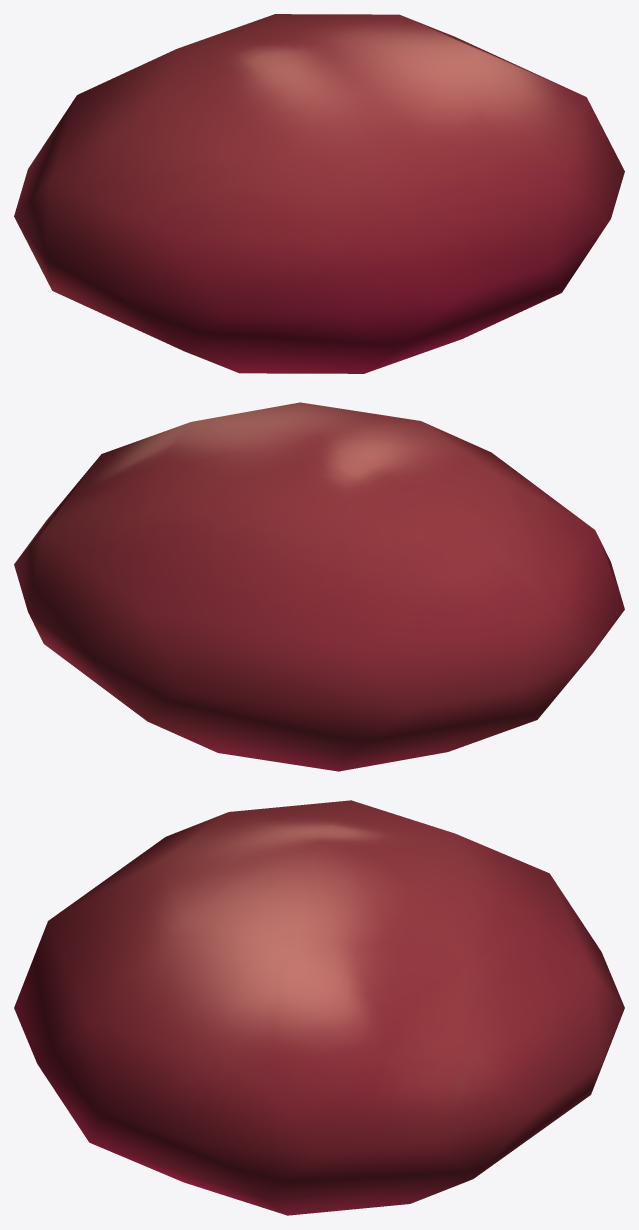
File: candypillred.fbx
The picture shows the model from 3 angles, top to bottom: view 1: azimuth 30°, elevation 25°; view 2: azimuth 150°, elevation 25°; view 3: azimuth 270°, elevation 25°; orthographic projection. The views are drawn at different scales.
Visible parts, largest first — view 1: candypillred; view 2: candypillred; view 3: candypillred.
Boxes of the visible parts, x1,y1,x2,y2 form: candypillred: (14, 14, 624, 373); candypillred: (14, 402, 624, 771); candypillred: (14, 800, 624, 1215).
Size of the model in its own units: 4.64 by 2.42 by 4.1.
